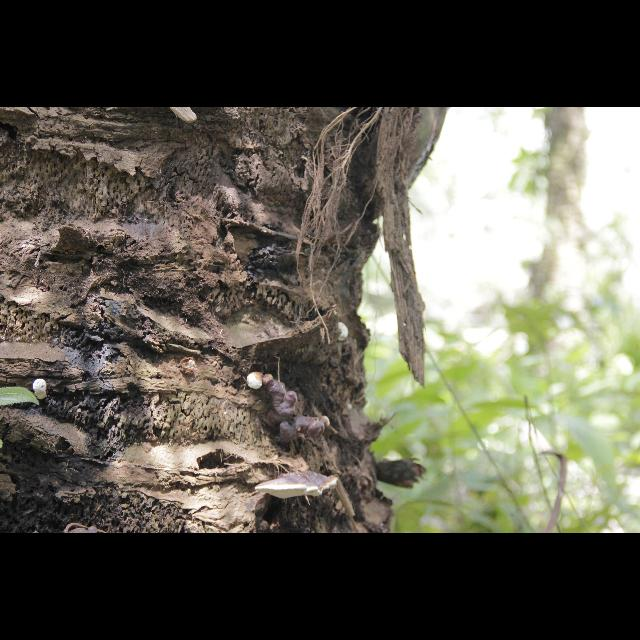ganoderma: (264, 375, 322, 448), (255, 471, 339, 501)
primordium: (34, 380, 50, 402), (248, 373, 265, 391), (339, 323, 350, 343), (323, 417, 331, 430)
